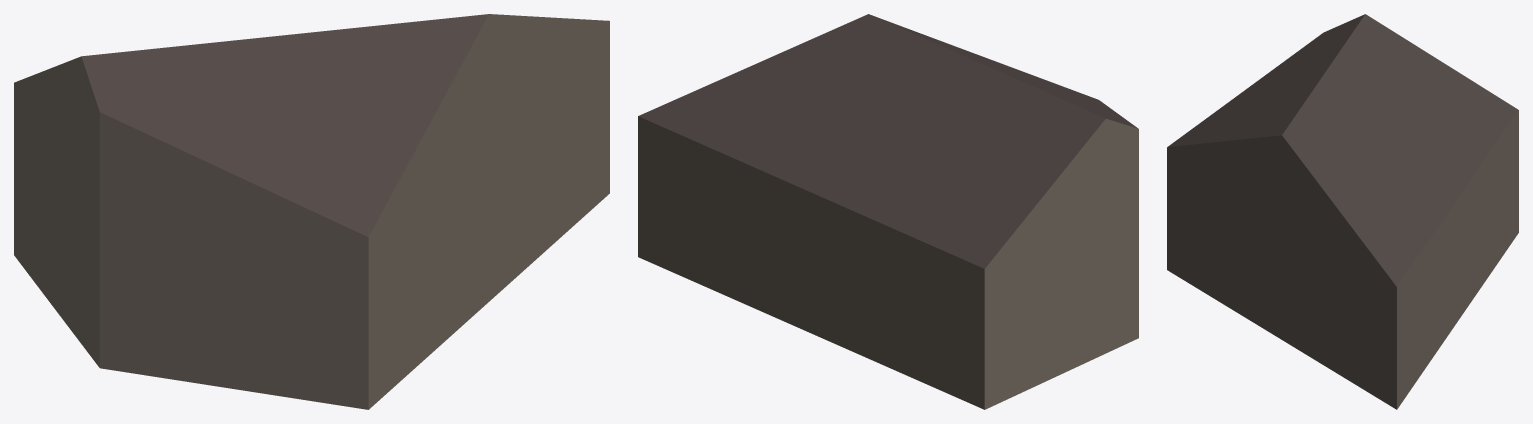
3 views of the same model, side by side, from view 1: azimuth 30°, elevation 25°; view 2: azimuth 150°, elevation 25°; view 3: azimuth 270°, elevation 25° (orthographic). The views are drawn at different scales.
Visible parts, largest first — view 1: HP-w441877191; view 2: HP-w441877191; view 3: HP-w441877191.
Boxes of the visible parts, left/top/right/bottom form: HP-w441877191: left=14, top=14, right=609, bottom=409; HP-w441877191: left=638, top=14, right=1138, bottom=409; HP-w441877191: left=1167, top=14, right=1518, bottom=409.
Bounding box in the file's own units: 30.65 × 15 × 23.36.
